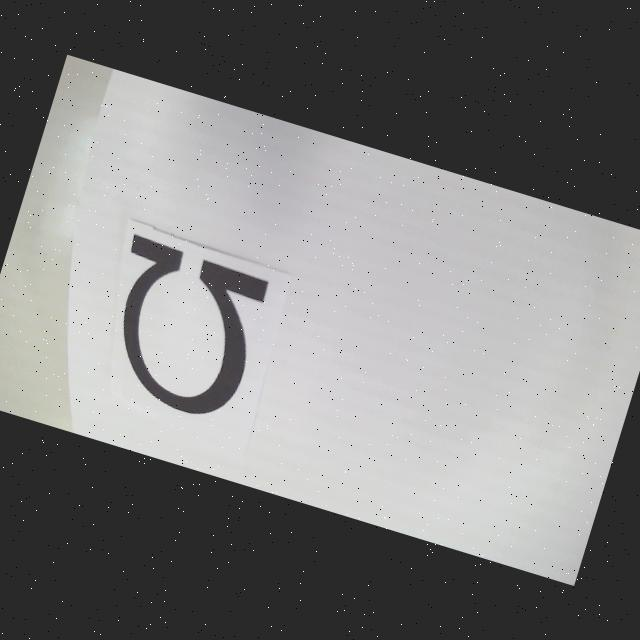OMEGA: (88, 232, 273, 425)
